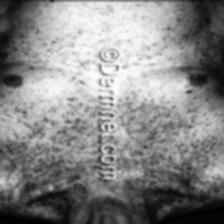Non-Cancerous Skin Condition: (0, 96, 96, 190), (128, 102, 171, 182)
